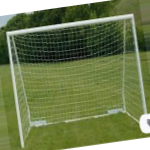goals: (6, 11, 149, 150)
